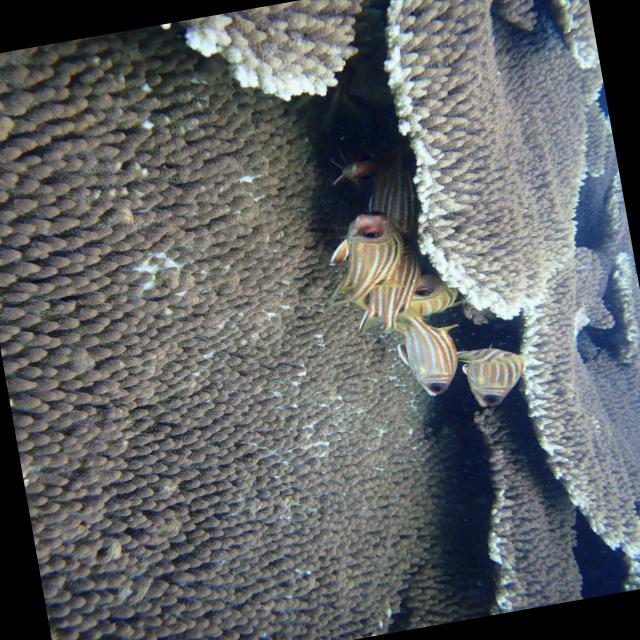Asker Baligi: (304, 202, 402, 318), (454, 336, 534, 411), (396, 311, 468, 394)
